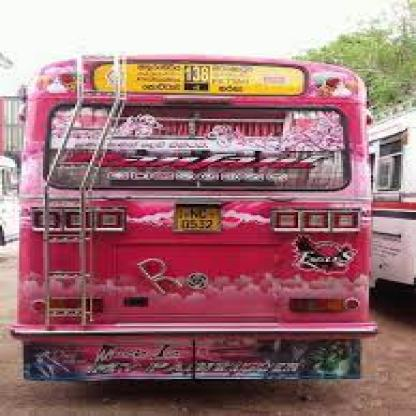bus back: (12, 47, 372, 387)
number plate: (176, 204, 224, 230)
